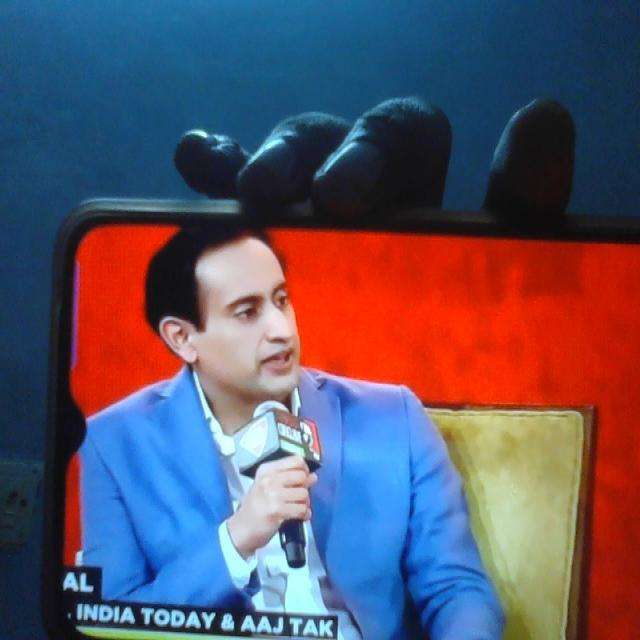fake: (191, 198, 301, 406)
